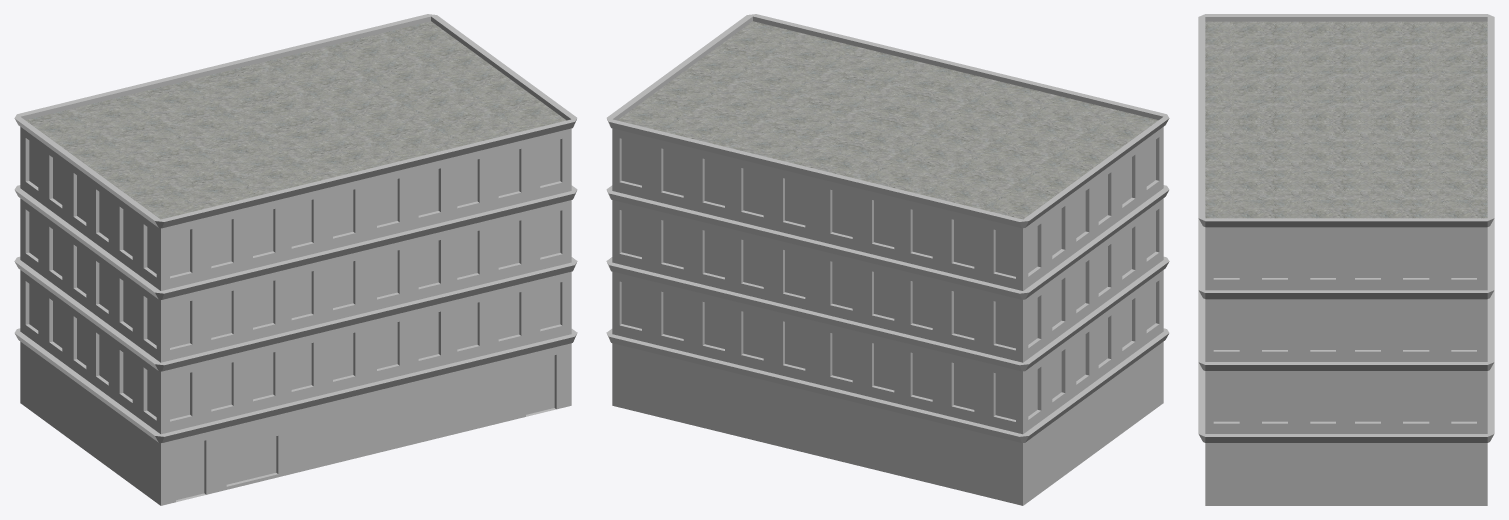
File: RV_Building_Type_B_008.fbx
The picture shows the model from 3 angles, left to right: view 1: azimuth 30°, elevation 25°; view 2: azimuth 150°, elevation 25°; view 3: azimuth 270°, elevation 25°; orthographic projection.
Visible parts, largest first — view 1: RV_Building_Type_B_008; view 2: RV_Building_Type_B_008; view 3: RV_Building_Type_B_008.
Part boxes in pixels (bbox=[...]): RV_Building_Type_B_008: bbox=[14, 14, 577, 505]; RV_Building_Type_B_008: bbox=[606, 14, 1169, 505]; RV_Building_Type_B_008: bbox=[1198, 14, 1494, 505].
Size of the model in its own units: 1779 by 1152 by 1074.
